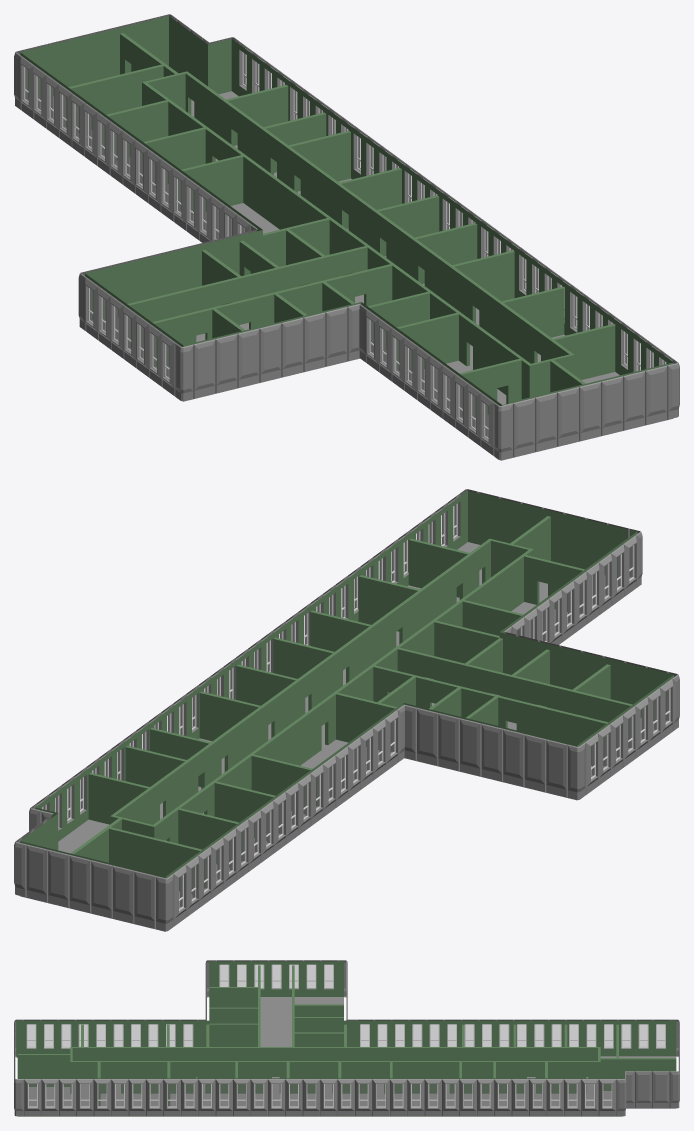
Rendered from 2_floor.DAE.
The picture shows the model from 3 angles, top to bottom: view 1: azimuth 30°, elevation 25°; view 2: azimuth 150°, elevation 25°; view 3: azimuth 270°, elevation 25°; orthographic projection. The views are drawn at different scales.
Parts seen in each view (by area): view 1: __floor; view 2: __floor; view 3: __floor.
Boxes of the visible parts, bbox=[...] form: __floor: bbox=[14, 14, 679, 460]; __floor: bbox=[14, 489, 679, 931]; __floor: bbox=[14, 960, 679, 1116].
Size of the model in its own units: 38.11 by 88.45 by 5.65.
